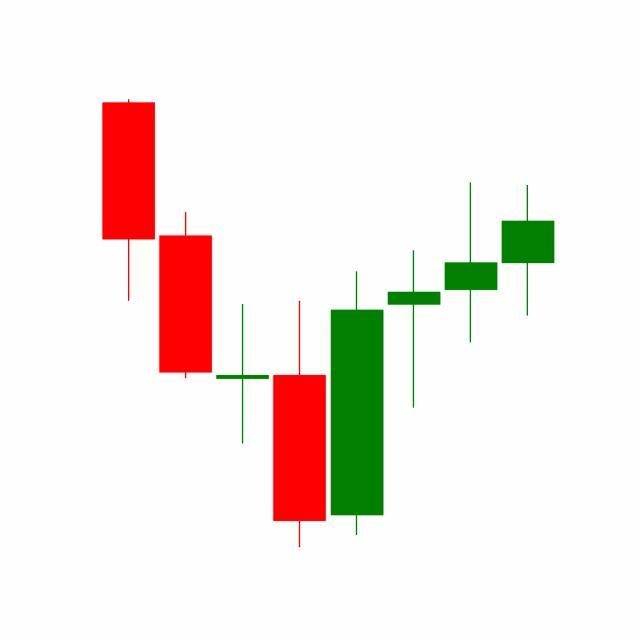Advance Block: (328, 178, 500, 540)
